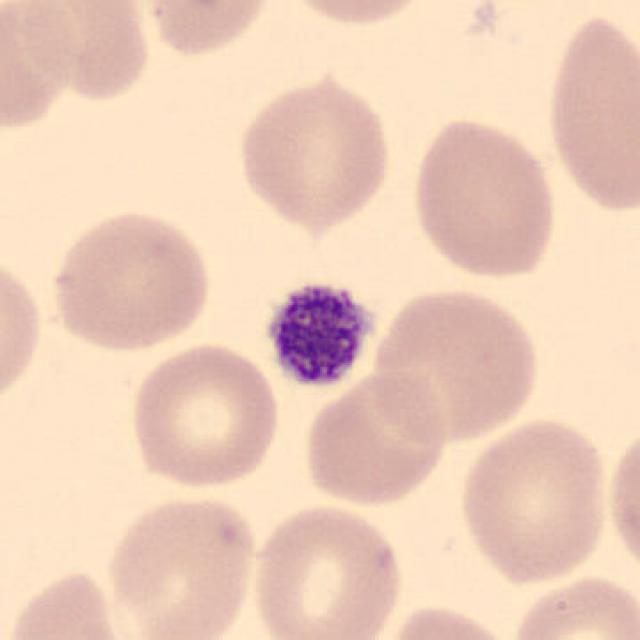Platelets: (260, 275, 378, 393)
RBC: (368, 282, 546, 446), (454, 412, 614, 589), (233, 67, 396, 234), (405, 113, 562, 284), (44, 204, 217, 354), (125, 336, 282, 494), (103, 488, 260, 640), (245, 499, 407, 640), (299, 367, 453, 511), (540, 7, 640, 217), (7, 0, 158, 108), (0, 0, 80, 138), (2, 564, 137, 640), (507, 571, 638, 640), (133, 0, 279, 60), (0, 245, 48, 414), (602, 419, 640, 583), (377, 601, 521, 640), (276, 0, 439, 32)
